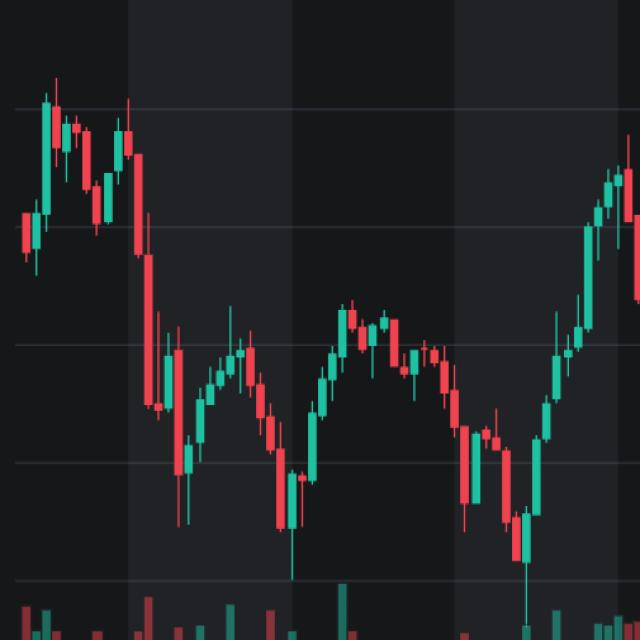Resistance-Emerging: (168, 310, 551, 565)
